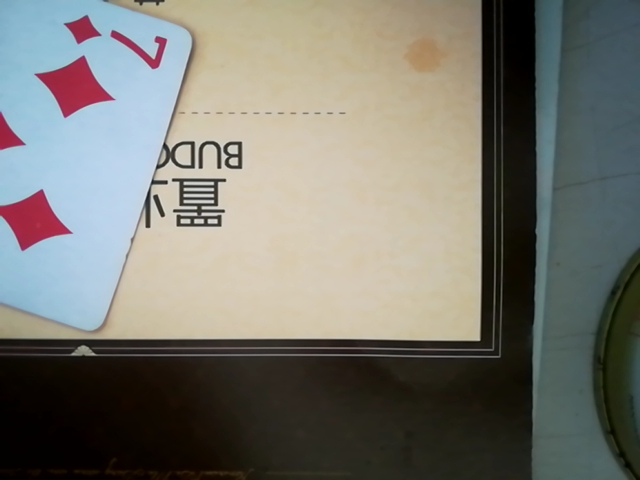fk 7: (0, 0, 191, 347)
